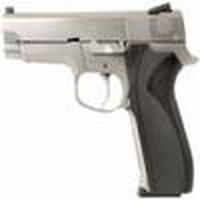gun: (1, 7, 200, 192)
